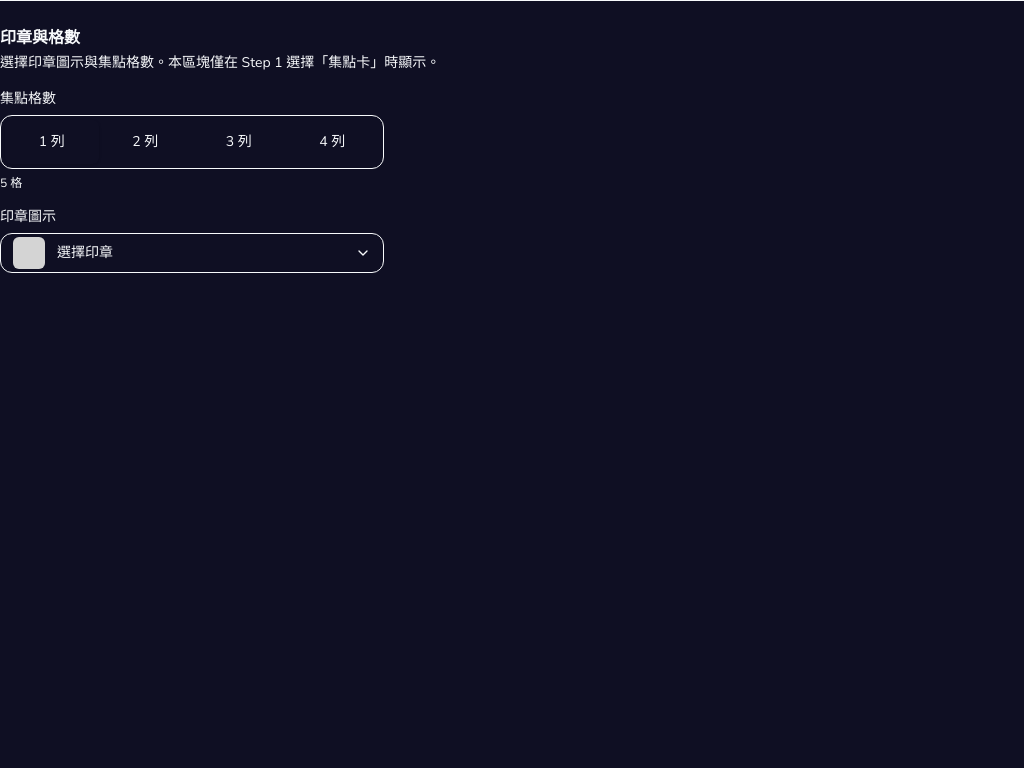
Scenario: Step3StampGrid — StampIconPicker (mobile) › writes stampIconId and closes dialog when an icon is picked on MOBILE
The image size is (1024, 768).
Click the button "選擇印章": (29,253) [0,233,384,273]
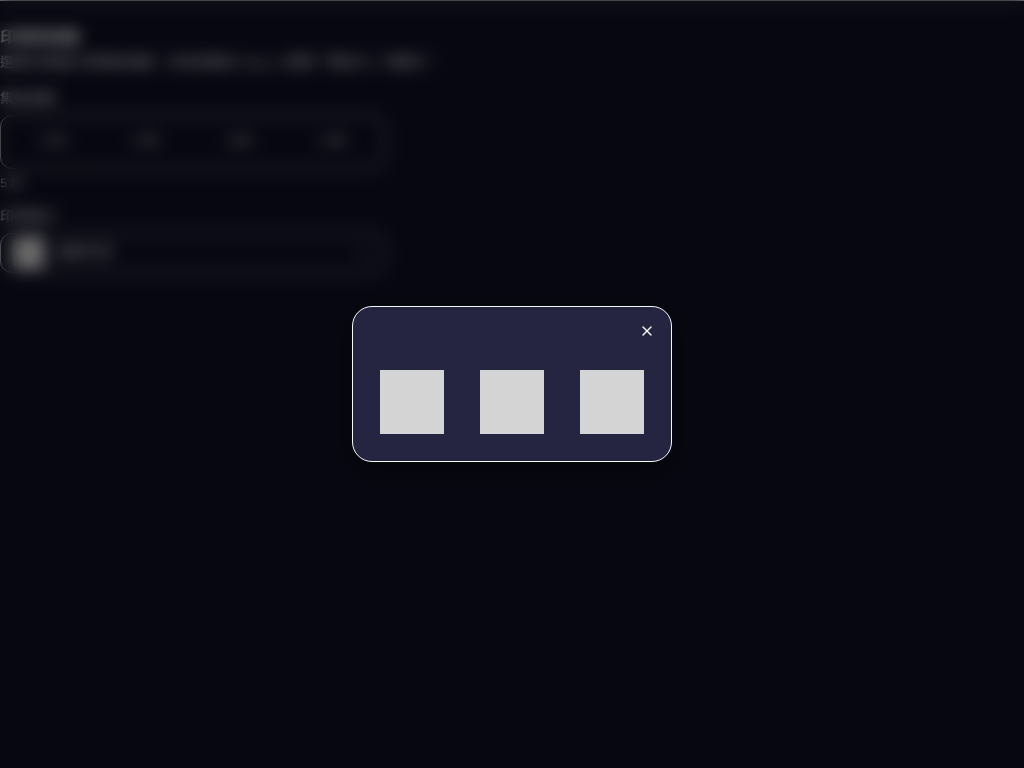
Check: the dialog is shown
Click the radio button named "太陽": (612,402) [565,355,659,449]
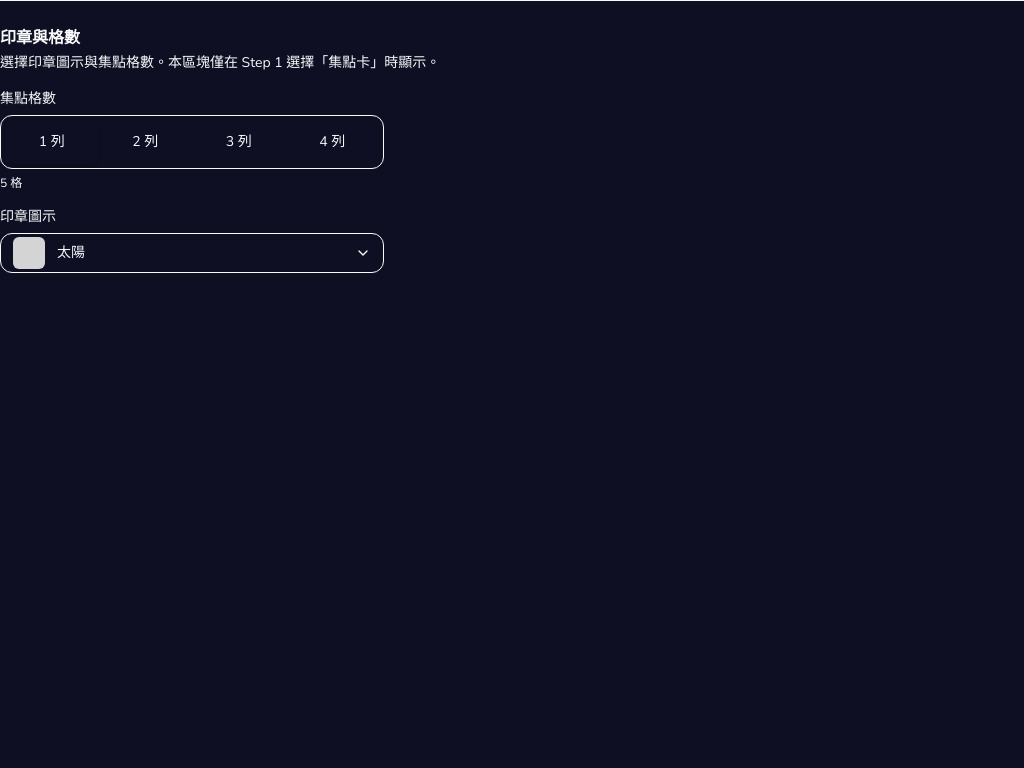
Check: the dialog is gone
